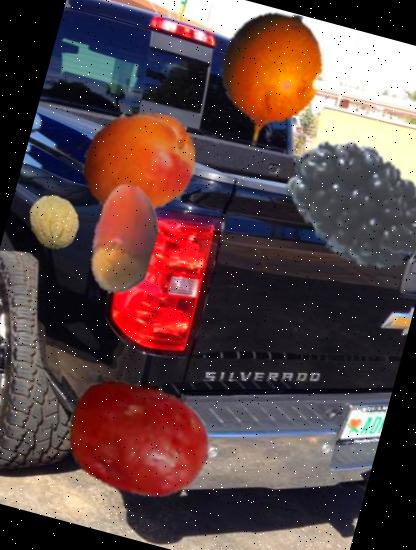Apricot: (68, 90, 212, 235)
Cantaloupe: (20, 188, 89, 257)
Granadilla: (185, 0, 354, 164)
Grape: (50, 350, 228, 528)
Hazelnut: (56, 171, 193, 310)
Mulberry: (264, 111, 416, 295)
